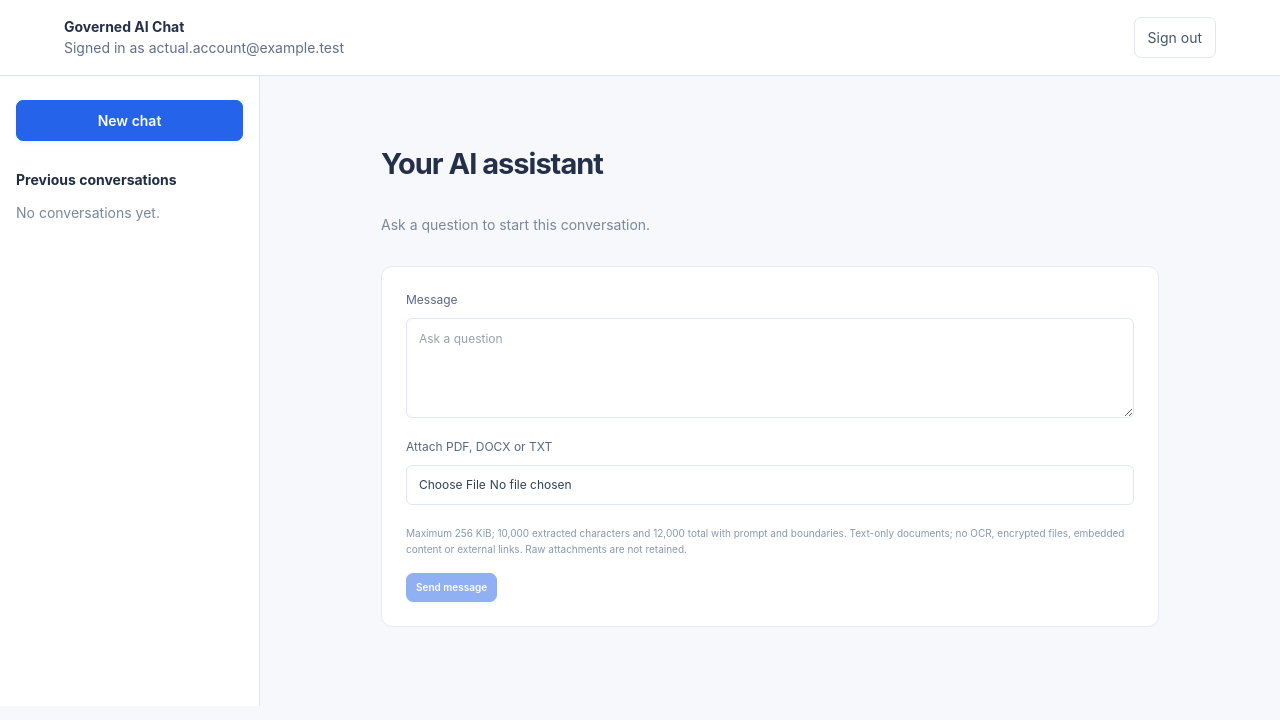
shows a simple ALLOW conversation without technical cards or IDs
The width and height of the screenshot is (1280, 720).
(page scrolled)
Expected: the text "No conversations yet." is shown, [16,204,160,221]
Type "Sensitive test prompt" into the text box labelled "Message" at (770, 368), box [406,318,1134,418]
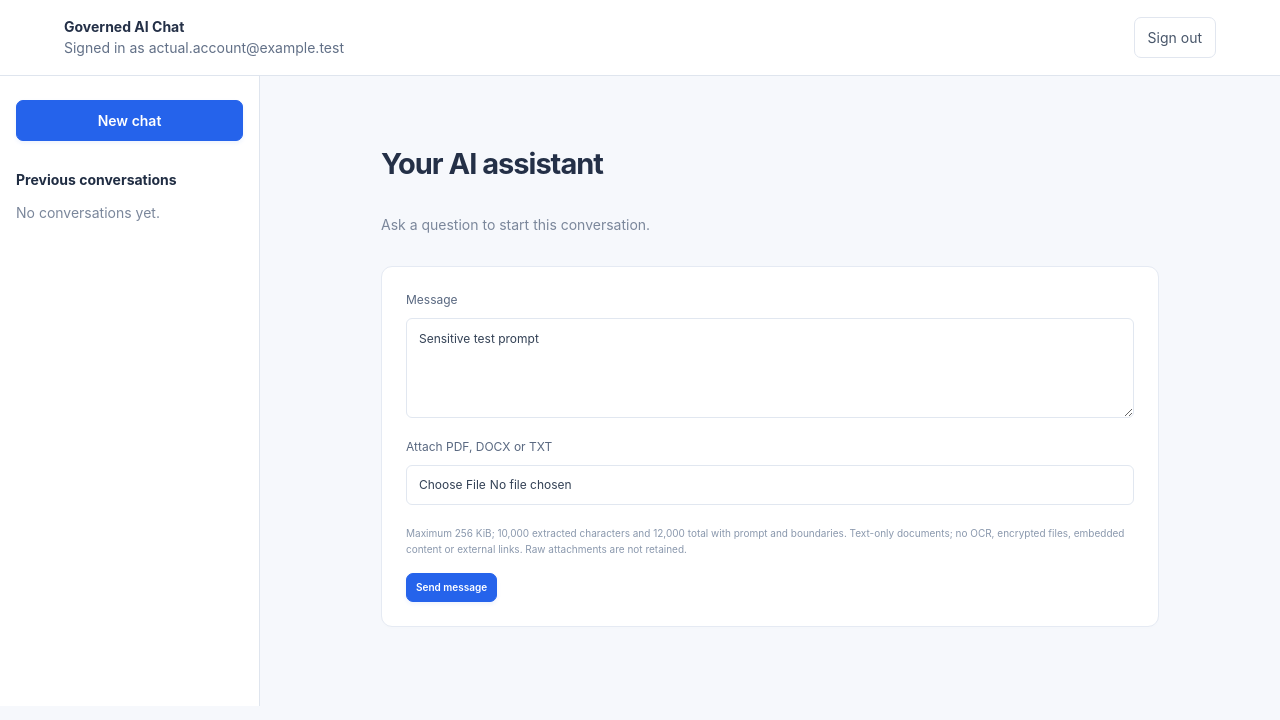
Click the button "Send message" at (452, 588), box [406,573,497,602]
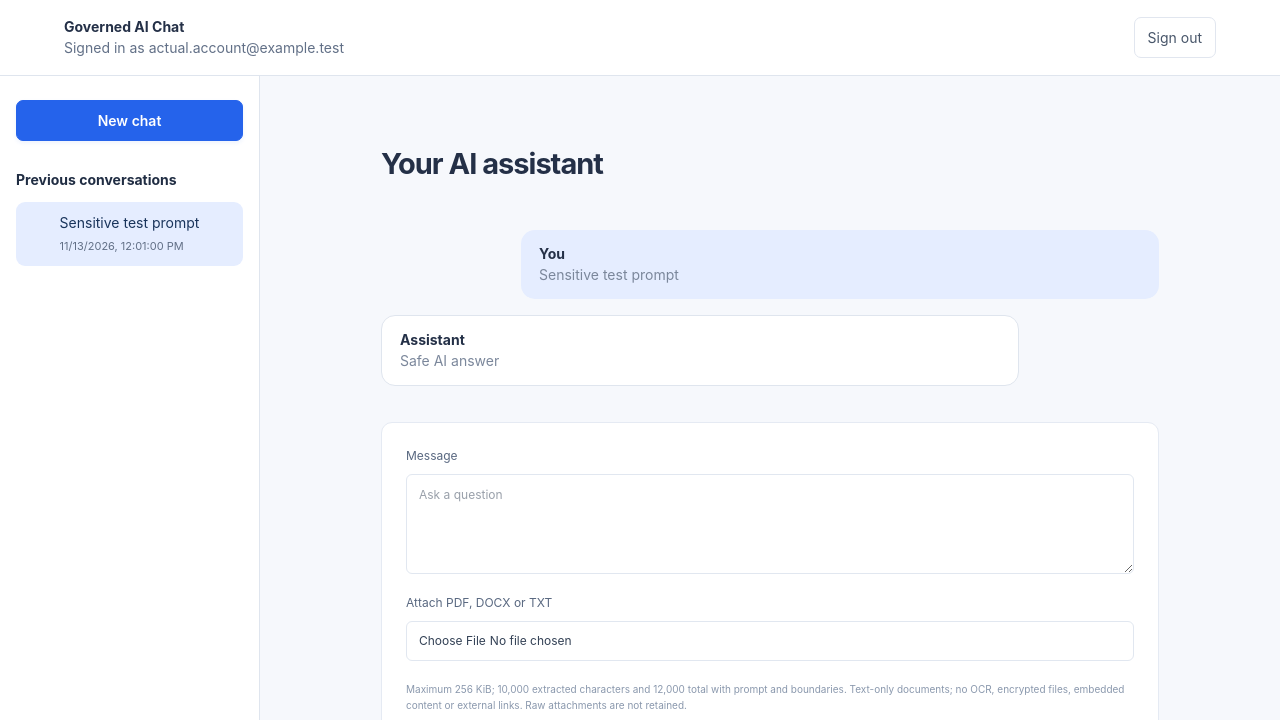
Expected: the text "Safe AI answer" is shown, [400,352,499,369]
